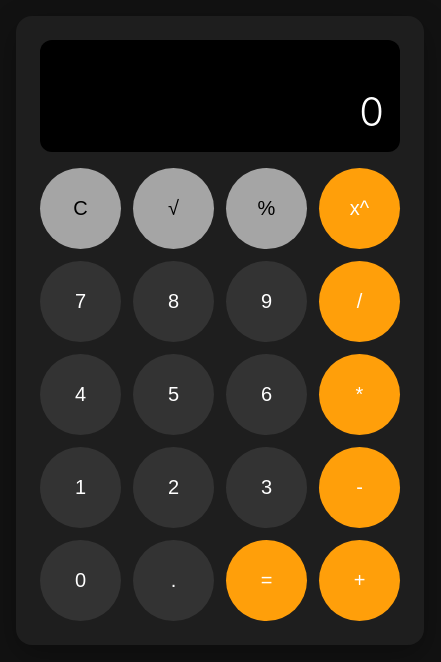
Scenario: Calculator › should allow decimal input an clean with C
Click the button "1".
click(80, 488)  # box [40,447,121,528]
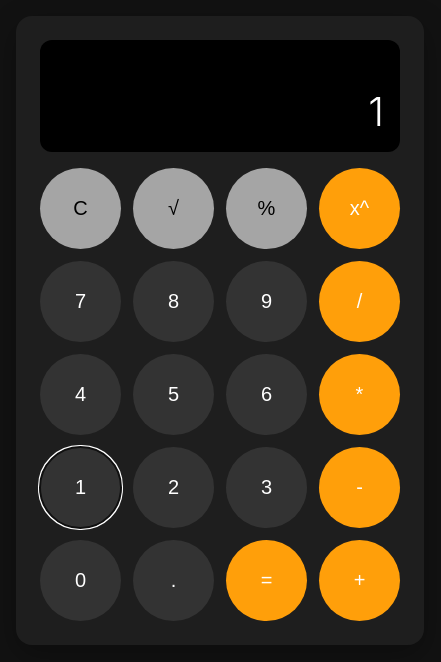
Click the button ".".
click(174, 580)  # box [133,540,214,621]
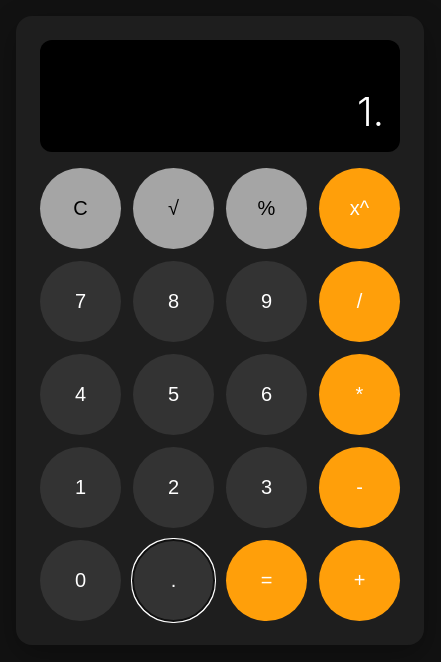
Click the button "5".
click(174, 394)  # box [133,354,214,435]
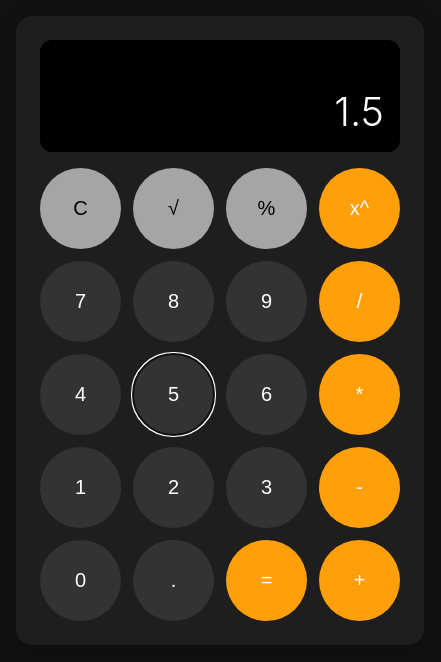
Expected: the text with test id "display-value" reads "1.5", [334,87,384,136]
Click the button "C".
click(80, 208)  # box [40,168,121,249]
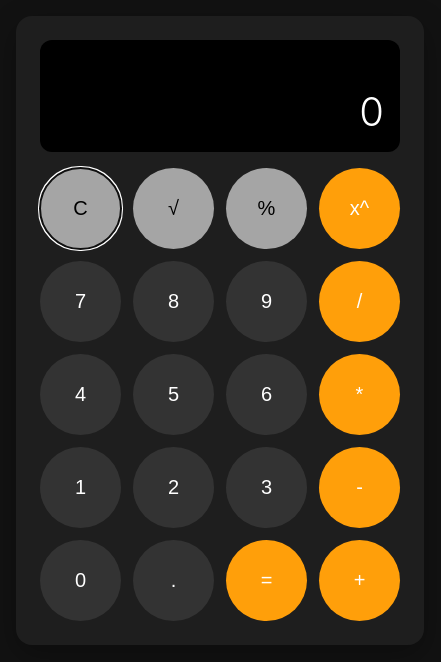
Expected: the text with test id "display-value" reads "0", [359,87,384,136]
